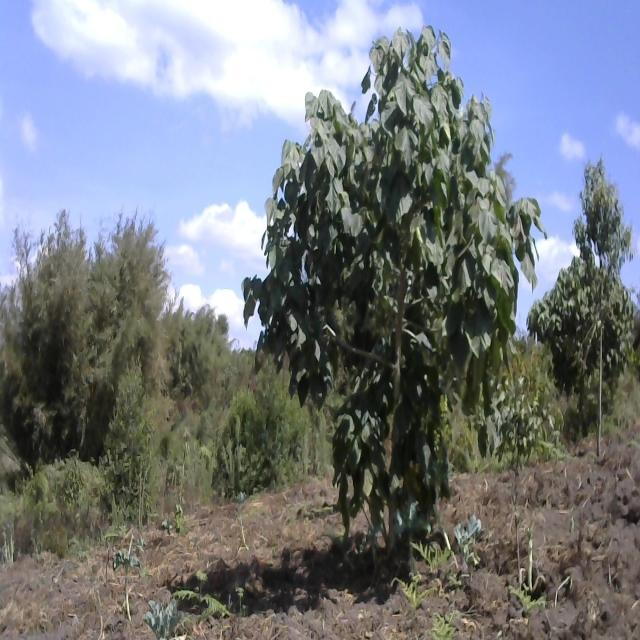Lemon Myrtle: (535, 167, 634, 432)
other: (232, 9, 560, 590)
